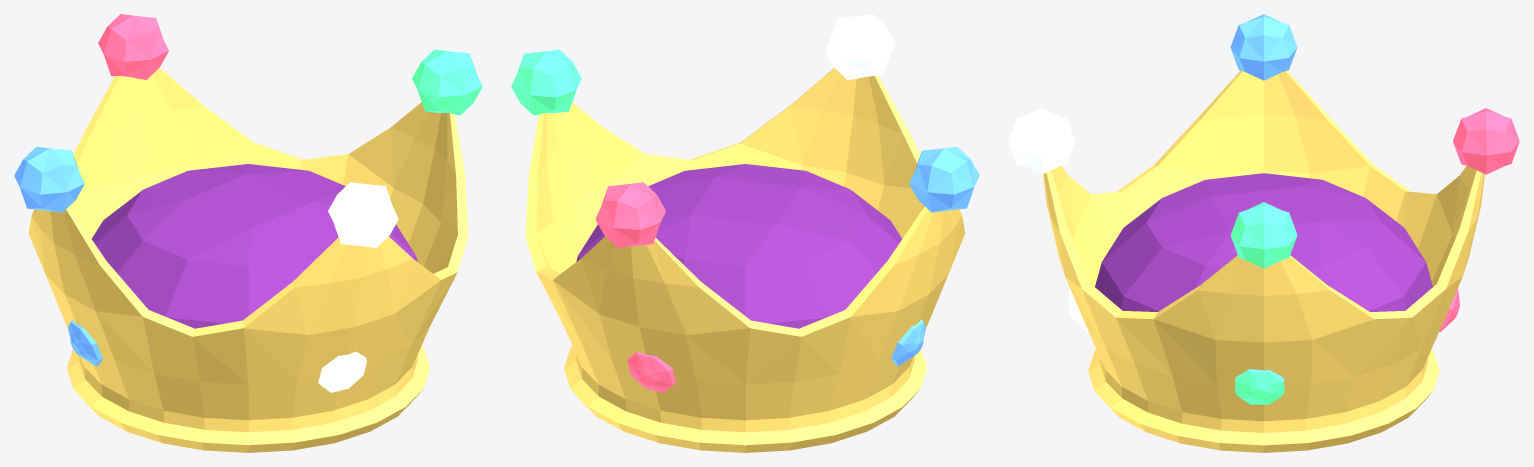
File: Cosmetic_GoldJeweledCrown.glb
3 views of the same model, side by side, from view 1: azimuth 30°, elevation 25°; view 2: azimuth 150°, elevation 25°; view 3: azimuth 270°, elevation 25° (orthographic). The views are drawn at different scales.
Visible parts, largest first — view 1: Cosmetic_GoldJeweledCrown_Gold, Cosmetic_GoldJeweledCrown_CrownCushion_RoyalPurple, Cosmetic_GoldJeweledCrown_GoldCrown_Diamond, Cosmetic_GoldJeweledCrown_GoldCrown_Sapphire, Cosmetic_GoldJeweledCrown_GoldCrown_Ruby, Cosmetic_GoldJeweledCrown_GoldCrown_Emerald; view 2: Cosmetic_GoldJeweledCrown_Gold, Cosmetic_GoldJeweledCrown_CrownCushion_RoyalPurple, Cosmetic_GoldJeweledCrown_GoldCrown_Ruby, Cosmetic_GoldJeweledCrown_GoldCrown_Sapphire, Cosmetic_GoldJeweledCrown_GoldCrown_Emerald, Cosmetic_GoldJeweledCrown_GoldCrown_Diamond; view 3: Cosmetic_GoldJeweledCrown_Gold, Cosmetic_GoldJeweledCrown_CrownCushion_RoyalPurple, Cosmetic_GoldJeweledCrown_GoldCrown_Emerald, Cosmetic_GoldJeweledCrown_GoldCrown_Diamond, Cosmetic_GoldJeweledCrown_GoldCrown_Ruby, Cosmetic_GoldJeweledCrown_GoldCrown_Sapphire.
Boxes of the visible parts, x1,y1,x2,y2 form: Cosmetic_GoldJeweledCrown_Gold: [28, 68, 468, 452]; Cosmetic_GoldJeweledCrown_CrownCushion_RoyalPurple: [92, 164, 417, 328]; Cosmetic_GoldJeweledCrown_GoldCrown_Diamond: [318, 182, 398, 392]; Cosmetic_GoldJeweledCrown_GoldCrown_Sapphire: [14, 146, 102, 366]; Cosmetic_GoldJeweledCrown_GoldCrown_Ruby: [98, 14, 168, 79]; Cosmetic_GoldJeweledCrown_GoldCrown_Emerald: [412, 49, 482, 115]; Cosmetic_GoldJeweledCrown_Gold: [525, 68, 965, 452]; Cosmetic_GoldJeweledCrown_CrownCushion_RoyalPurple: [576, 164, 901, 328]; Cosmetic_GoldJeweledCrown_GoldCrown_Ruby: [595, 182, 676, 392]; Cosmetic_GoldJeweledCrown_GoldCrown_Sapphire: [891, 146, 979, 365]; Cosmetic_GoldJeweledCrown_GoldCrown_Emerald: [511, 49, 581, 115]; Cosmetic_GoldJeweledCrown_GoldCrown_Diamond: [825, 14, 895, 79]; Cosmetic_GoldJeweledCrown_Gold: [1043, 70, 1484, 452]; Cosmetic_GoldJeweledCrown_CrownCushion_RoyalPurple: [1095, 173, 1432, 311]; Cosmetic_GoldJeweledCrown_GoldCrown_Emerald: [1230, 202, 1297, 404]; Cosmetic_GoldJeweledCrown_GoldCrown_Diamond: [1008, 108, 1088, 332]; Cosmetic_GoldJeweledCrown_GoldCrown_Ruby: [1439, 108, 1519, 332]; Cosmetic_GoldJeweledCrown_GoldCrown_Sapphire: [1230, 14, 1297, 80].
Size of the model in its own units: 0.5497 by 0.3217 by 0.5497.
